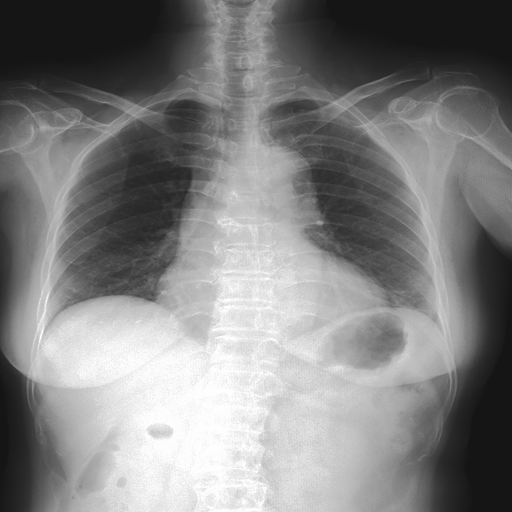Consolidation: (242, 145, 315, 217)
Nodule/Mass: (155, 276, 390, 325)
